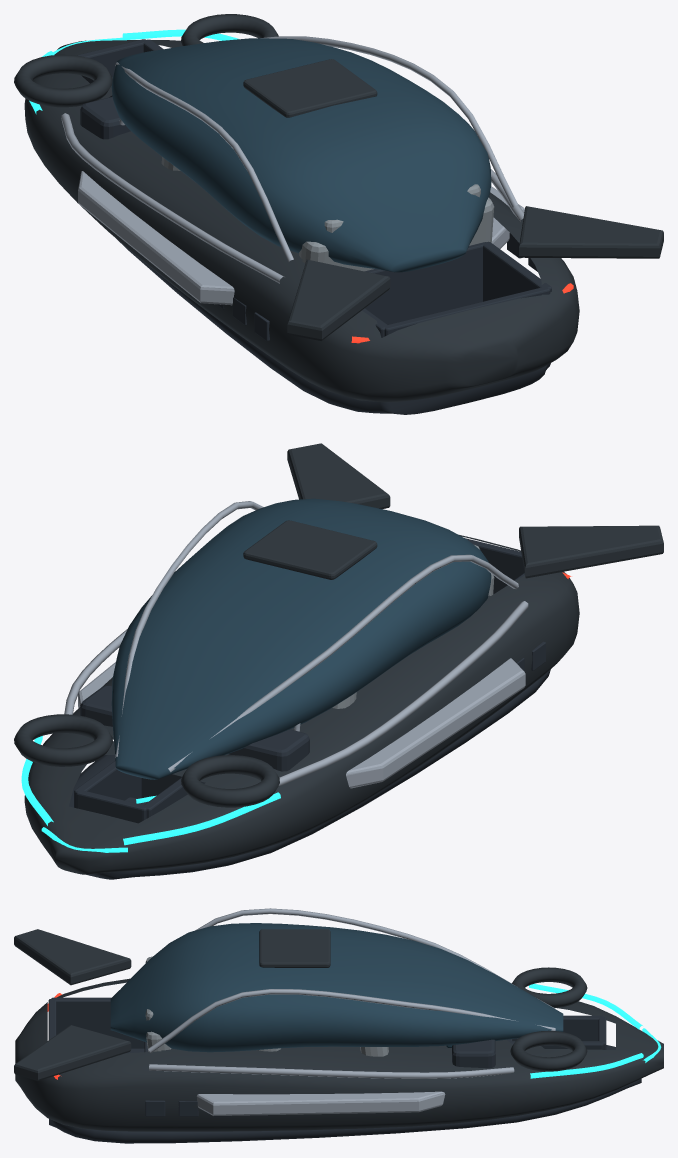
The model's file is skyline_x7_body.gltf.
The picture shows the model from 3 angles, top to bottom: view 1: azimuth 30°, elevation 25°; view 2: azimuth 150°, elevation 25°; view 3: azimuth 270°, elevation 25°; orthographic projection. The views are drawn at different scales.
Visible parts, largest first — view 1: skyline_x7_body; view 2: skyline_x7_body; view 3: skyline_x7_body.
Boxes of the visible parts, x1,y1,x2,y2 form: skyline_x7_body: [14, 14, 663, 414]; skyline_x7_body: [14, 443, 663, 879]; skyline_x7_body: [14, 908, 663, 1143].
Bounding box in the file's own units: 3.02 × 1.59 × 5.81.
